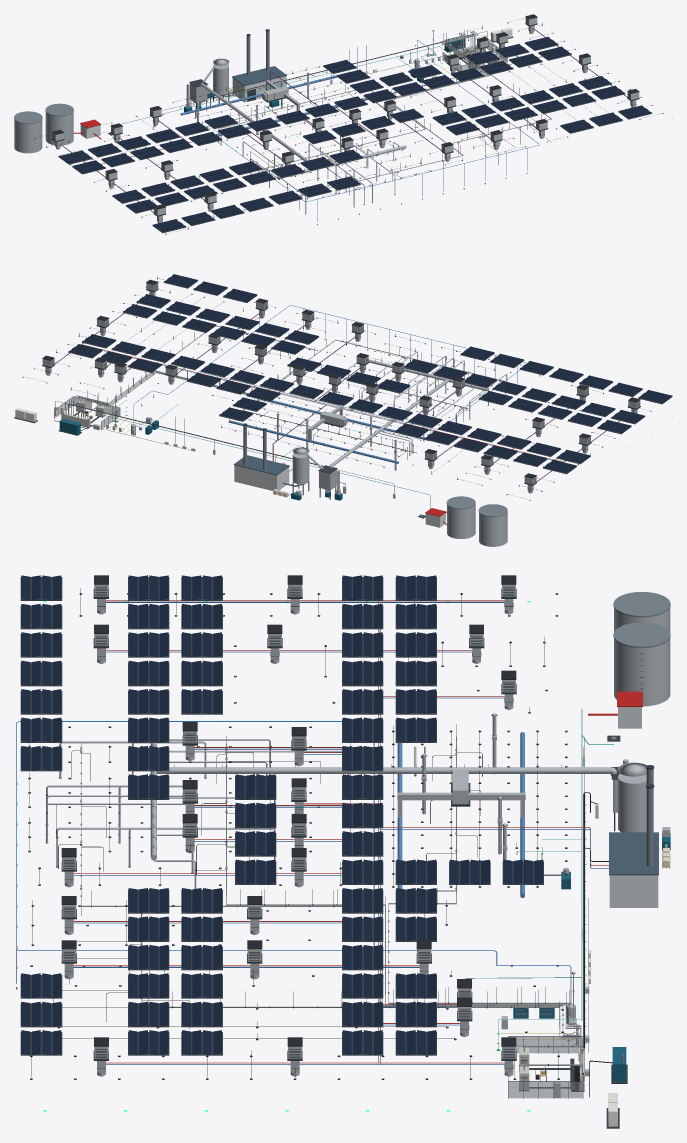
The model's file is engineering.glb.
3 views of the same model, one above another, from view 1: azimuth 30°, elevation 25°; view 2: azimuth 150°, elevation 25°; view 3: azimuth 270°, elevation 25° (orthographic). The views are drawn at different scales.
Visible parts, largest first — view 1: PV-ROOF, OUTSIDE, DUST, AHU-1, HEAT-NET, BW-1, AIR-RING, BW-2, BW-4, BW-3, WATER, CABLES (+1 smaller); view 2: PV-ROOF, OUTSIDE, DUST, HEAT-NET, AHU-1, AIR-RING, BW-1, BW-3, Огородження електрощитової, CABLES, BW-2; view 3: PV-ROOF, OUTSIDE, DUST, HEAT-NET, AHU-1, Огородження електрощитової, WATER, BW-2, BW-1, BW-4, BW-3, AIR-RING (+2 smaller).
Boxes of the visible parts, x1,y1,x2,y2 form: PV-ROOF: [59, 36, 652, 233]; OUTSIDE: [14, 29, 286, 153]; DUST: [184, 72, 406, 214]; AHU-1: [180, 75, 367, 135]; HEAT-NET: [59, 28, 627, 212]; BW-1: [299, 29, 490, 209]; AIR-RING: [218, 53, 539, 224]; BW-2: [250, 33, 488, 172]; BW-4: [447, 30, 551, 164]; BW-3: [201, 33, 485, 131]; WATER: [108, 46, 460, 137]; CABLES: [195, 34, 475, 117]; PV-ROOF: [68, 274, 672, 474]; OUTSIDE: [233, 423, 507, 546]; DUST: [276, 351, 507, 500]; HEAT-NET: [55, 294, 633, 481]; AHU-1: [229, 400, 428, 463]; AIR-RING: [152, 305, 527, 429]; BW-1: [73, 338, 505, 415]; BW-3: [83, 372, 416, 459]; Огородження електрощитової: [54, 396, 120, 430]; CABLES: [67, 403, 346, 493]; BW-2: [81, 364, 469, 433]; PV-ROOF: [20, 575, 543, 1055]; OUTSIDE: [588, 592, 670, 907]; DUST: [45, 713, 628, 888]; HEAT-NET: [73, 600, 608, 1064]; AHU-1: [397, 732, 525, 897]; Огородження електрощитової: [508, 1036, 583, 1098]; WATER: [465, 709, 620, 1050]; BW-2: [196, 735, 581, 1034]; BW-1: [56, 743, 581, 1036]; BW-4: [53, 913, 581, 1068]; BW-3: [388, 724, 581, 1027]; AIR-RING: [16, 721, 497, 989].
Bounding box in the file's own units: 149 × 16.44 × 81.11.
